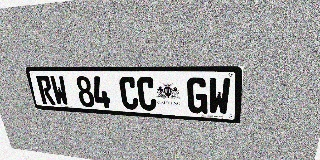4: (90, 76, 111, 108)
8: (75, 76, 95, 107)
C: (118, 76, 139, 110), (136, 77, 157, 111)
G: (187, 77, 208, 114)
R: (36, 75, 56, 105)
W: (208, 78, 231, 115), (49, 76, 70, 106)
